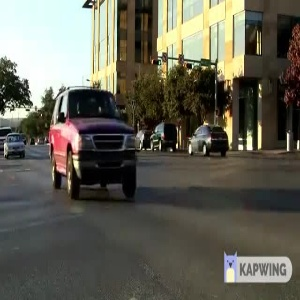car: (1, 130, 30, 161)
suv: (43, 76, 136, 201), (183, 119, 229, 158), (149, 119, 178, 151)
